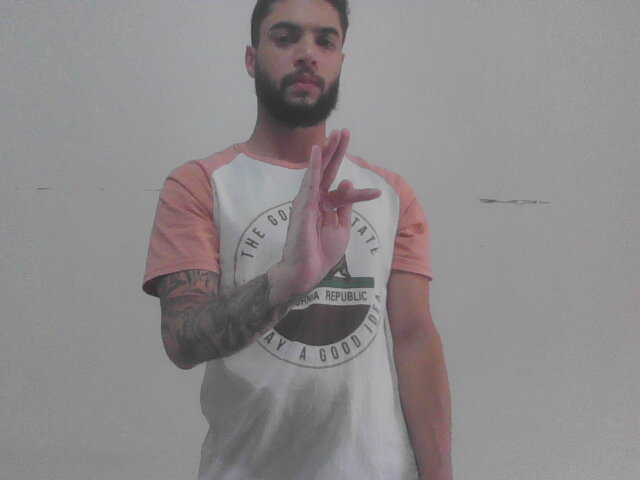f: (279, 125, 387, 307)
